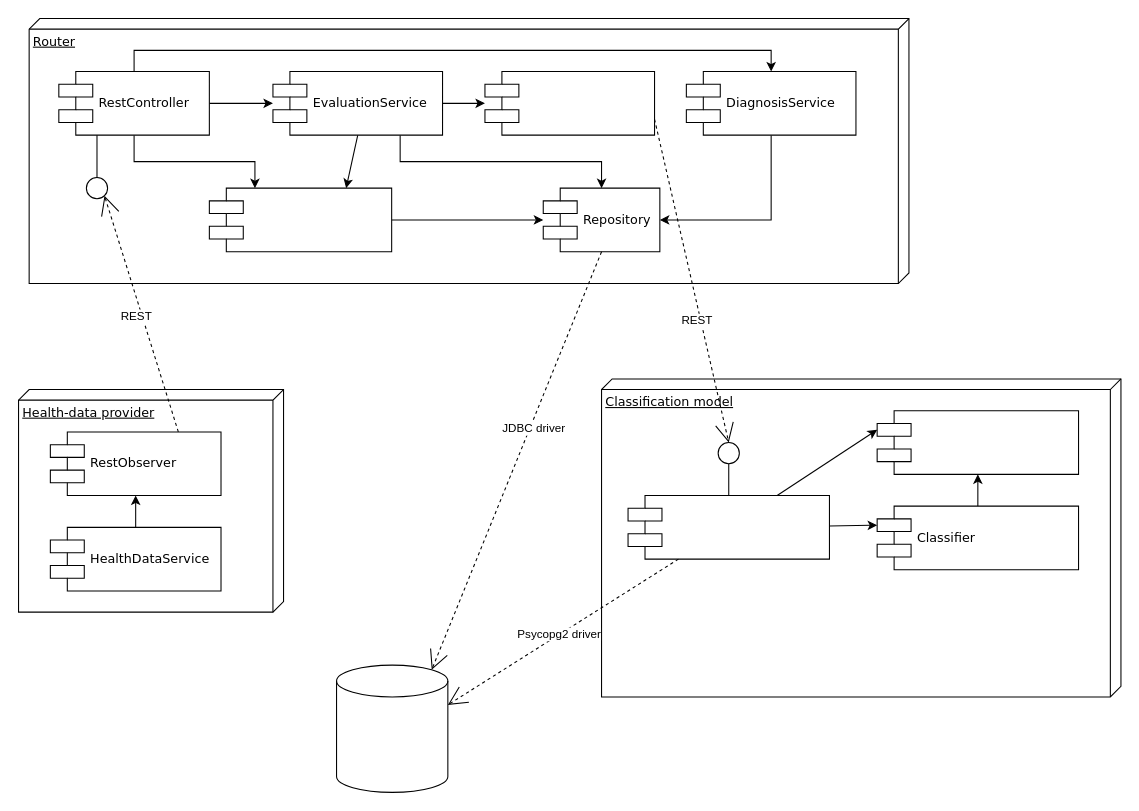
The diagram is 1139 pixels wide and 811 high, and some of its shapes have lost their labels. The centre of each missing label's shape, as x and y in pixels:
"ClassificationService" belongs at [728,526].
"ClassifierClient" belongs at [569,102].
"Database" belongs at [391,728].
"DataPreprocesser" belongs at [977,442].
"HealthDataObserver" belongs at [300,219].
